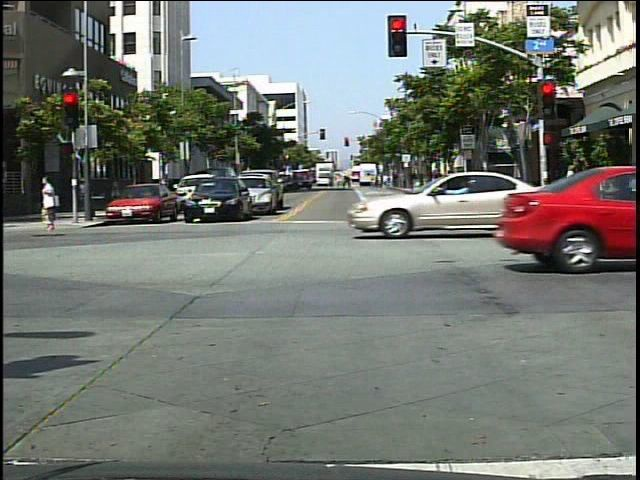person: (36, 171, 67, 235), (560, 161, 583, 212)
